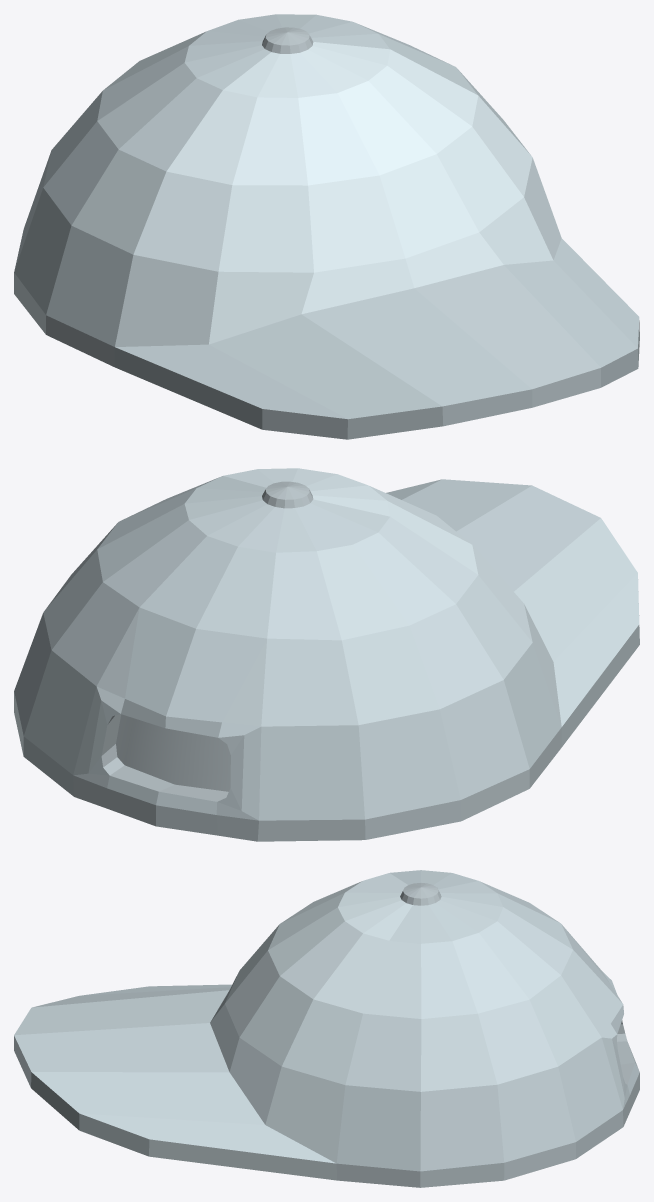
The model's file is SR_Cap_White.fbx.
3 renders of one model, top to bottom at view 1: azimuth 30°, elevation 25°; view 2: azimuth 150°, elevation 25°; view 3: azimuth 270°, elevation 25°, orthographic. The views are drawn at different scales.
Parts seen in each view (by area): view 1: SR_Cap_White; view 2: SR_Cap_White; view 3: SR_Cap_White.
Part boxes in pixels (left/top/right/bottom): SR_Cap_White: left=14, top=14, right=639, bottom=439; SR_Cap_White: left=14, top=468, right=639, bottom=841; SR_Cap_White: left=14, top=870, right=639, bottom=1187.
Bounding box in the file's own units: 131 × 63.17 × 177.
